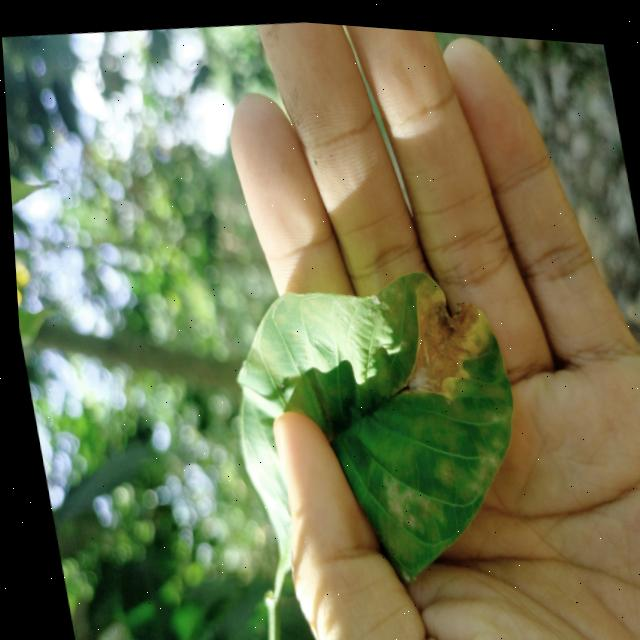Leaf-Blight: (381, 269, 496, 398)
